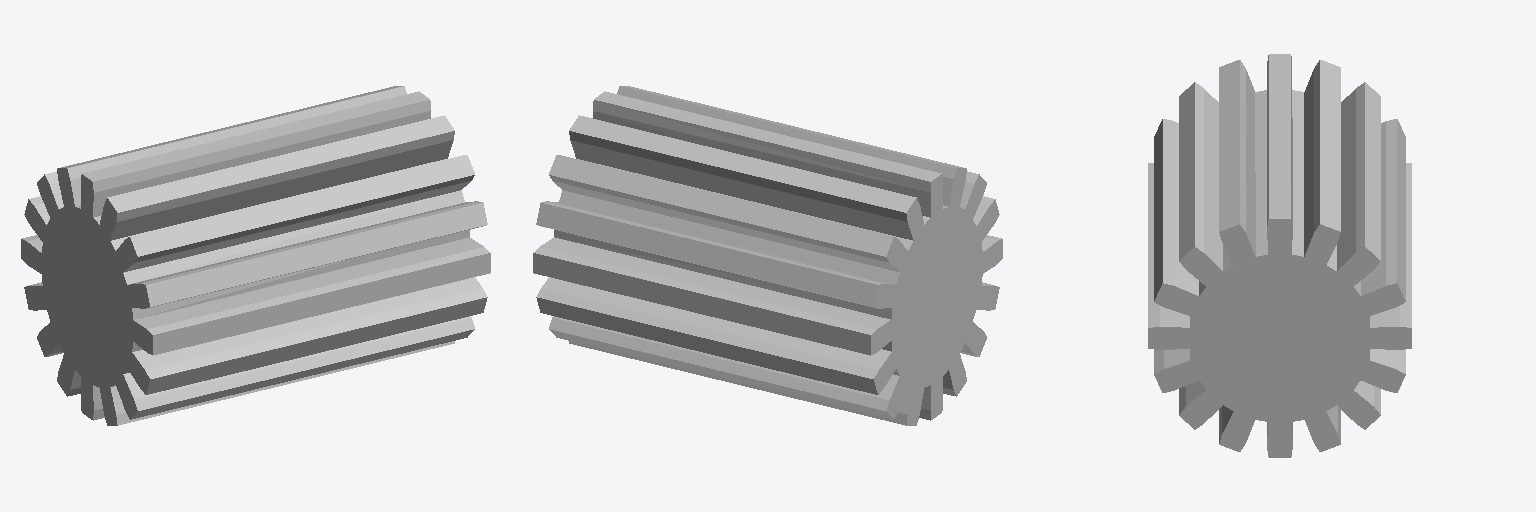
Rendered from motor_gear.obj.
3 renders of one model, left to right at view 1: azimuth 30°, elevation 25°; view 2: azimuth 150°, elevation 25°; view 3: azimuth 270°, elevation 25°, orthographic.
Parts seen in each view (by area): view 1: B4018_MotorPinionSimplified; view 2: B4018_MotorPinionSimplified; view 3: B4018_MotorPinionSimplified.
Boxes of the visible parts, box(x1,y1,x2,y2) form: B4018_MotorPinionSimplified: box(21, 86, 490, 425); B4018_MotorPinionSimplified: box(533, 86, 1002, 425); B4018_MotorPinionSimplified: box(1148, 54, 1411, 457).
Size of the model in its own units: 0.007 by 0.0047 by 0.0047.